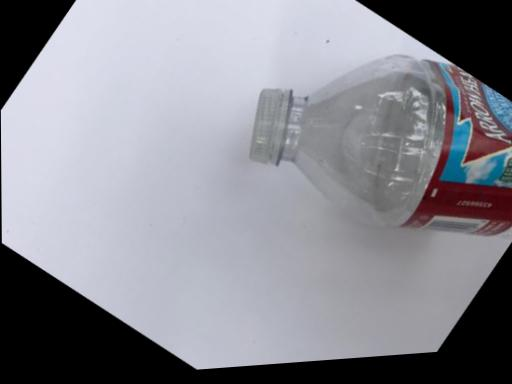plastic: (249, 39, 511, 235)
